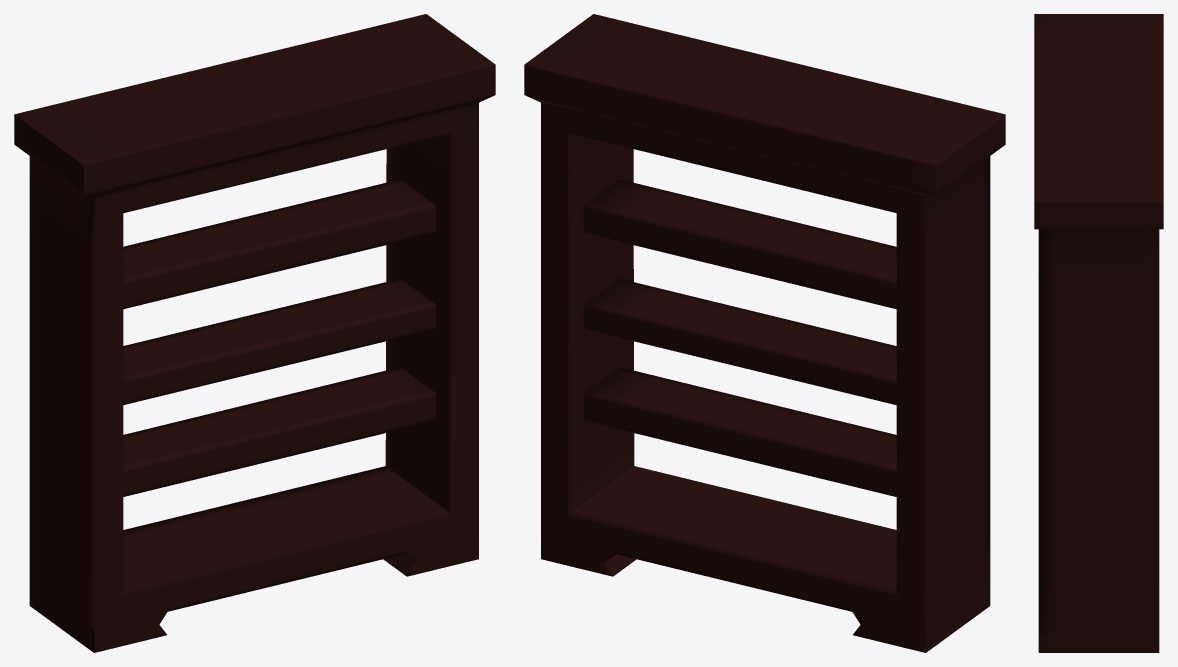
File: New_Bookcase.fbx
The picture shows the model from 3 angles, left to right: view 1: azimuth 30°, elevation 25°; view 2: azimuth 150°, elevation 25°; view 3: azimuth 270°, elevation 25°; orthographic projection. The views are drawn at different scales.
Parts seen in each view (by area): view 1: Bookcase; view 2: Bookcase; view 3: Bookcase.
Part boxes in pixels (box(x1,y1,x2,y2)): Bookcase: box(14, 14, 495, 652); Bookcase: box(524, 14, 1005, 652); Bookcase: box(1034, 14, 1163, 652).
Size of the model in its own units: 74.63 by 85.25 by 21.81.
